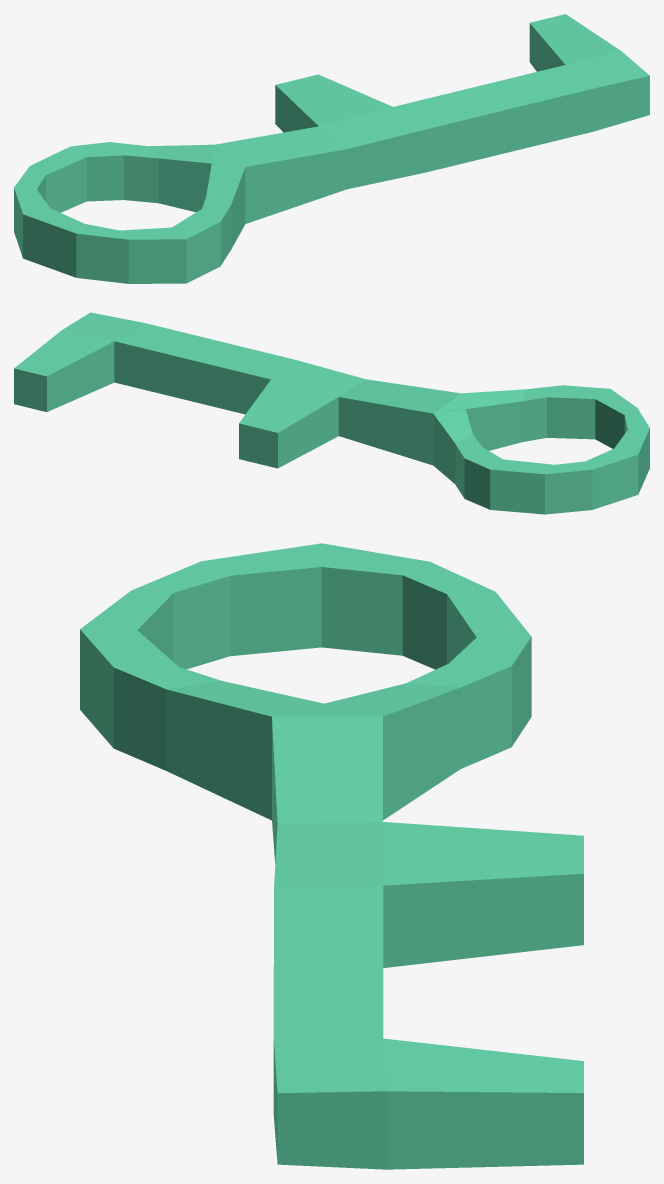
File: MalachorKey.glb
3 views of the same model, one above another, from view 1: azimuth 30°, elevation 25°; view 2: azimuth 150°, elevation 25°; view 3: azimuth 270°, elevation 25° (orthographic). The views are drawn at different scales.
Parts seen in each view (by area): view 1: MalachorKey__Cube; view 2: MalachorKey__Cube; view 3: MalachorKey__Cube.
Part boxes in pixels (<box>): MalachorKey__Cube: <box>14,14,649,283</box>; MalachorKey__Cube: <box>14,312,649,514</box>; MalachorKey__Cube: <box>80,543,583,1169</box>.
Bounding box in the file's own units: 0.85 × 0.0753 × 0.3309.
